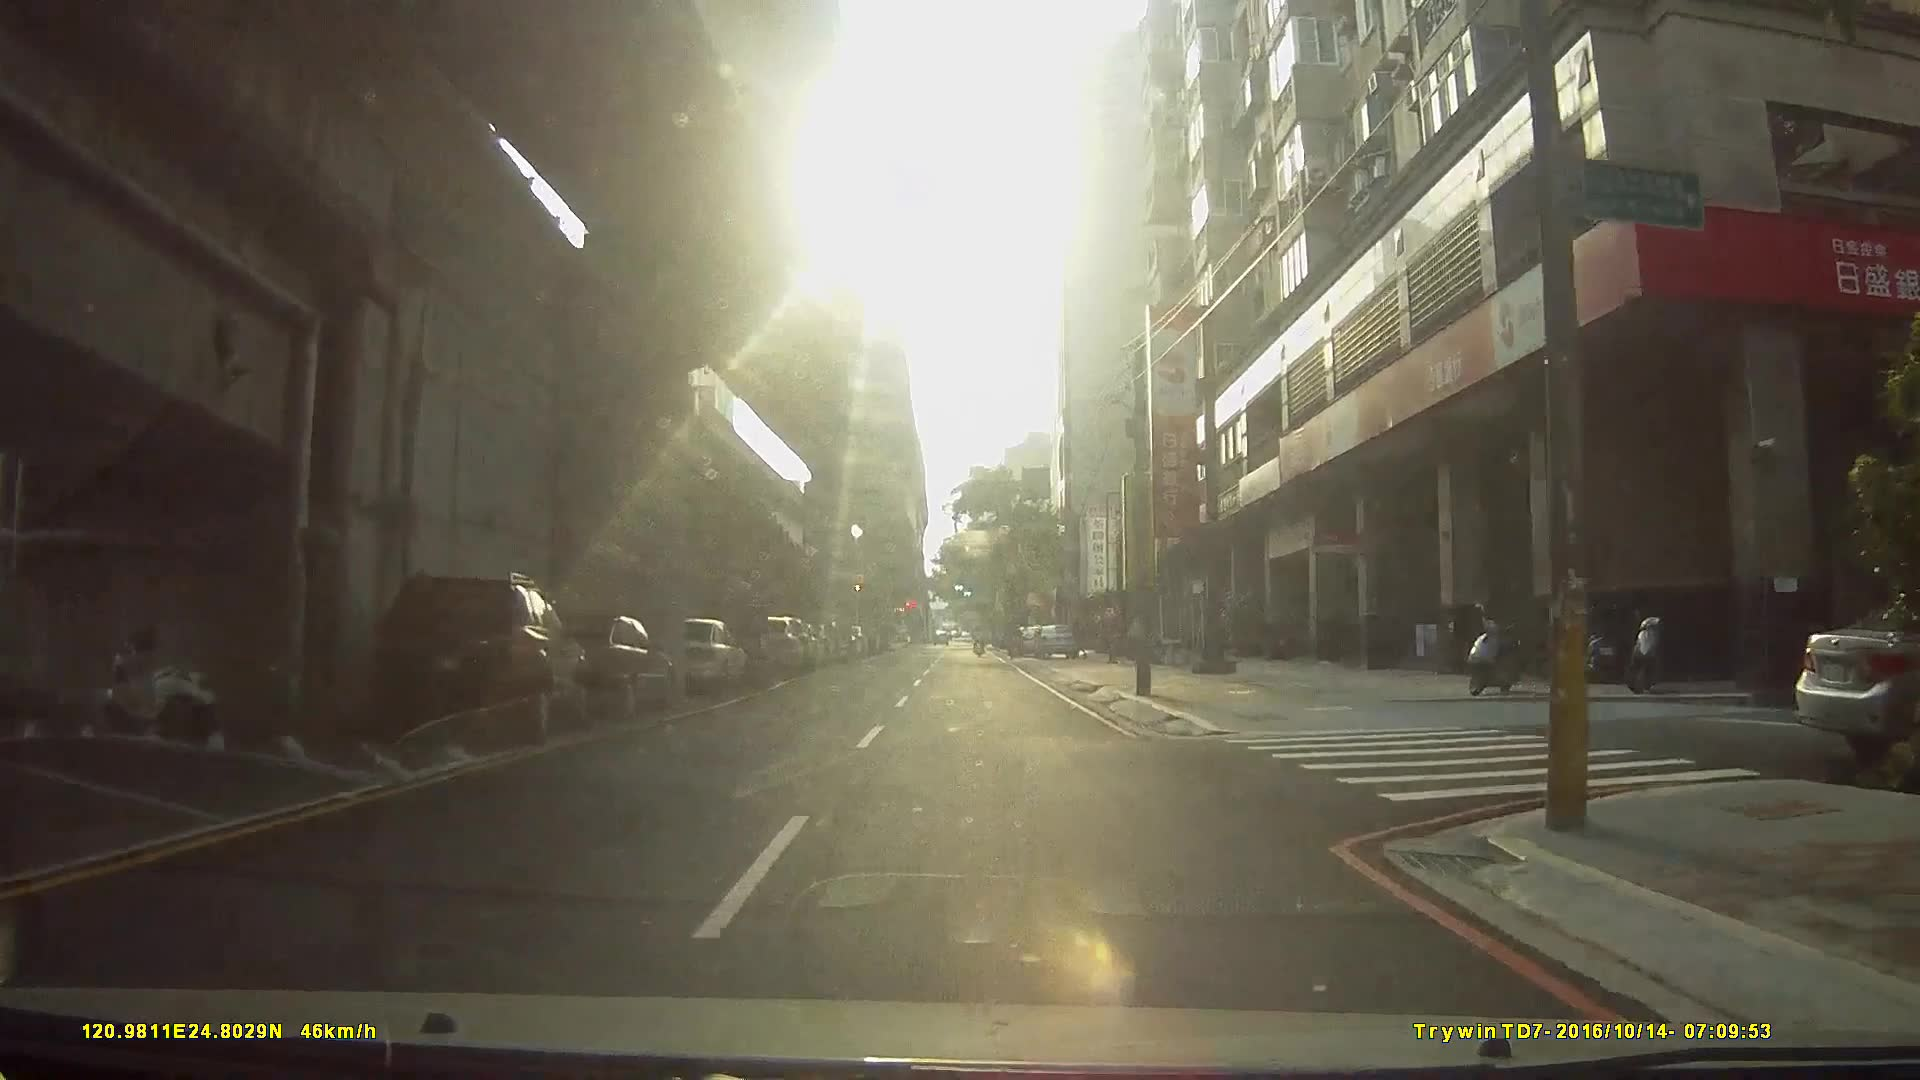vehicle: (368, 571, 588, 745), (506, 611, 673, 724), (651, 612, 748, 698), (659, 620, 794, 670), (1030, 618, 1079, 655)
